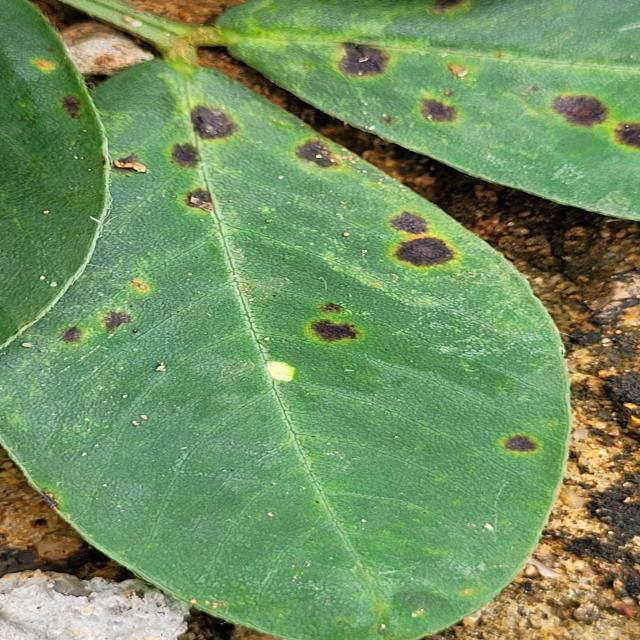Ground nut_tikka leaf spot: (32, 70, 578, 640), (203, 5, 640, 218)
